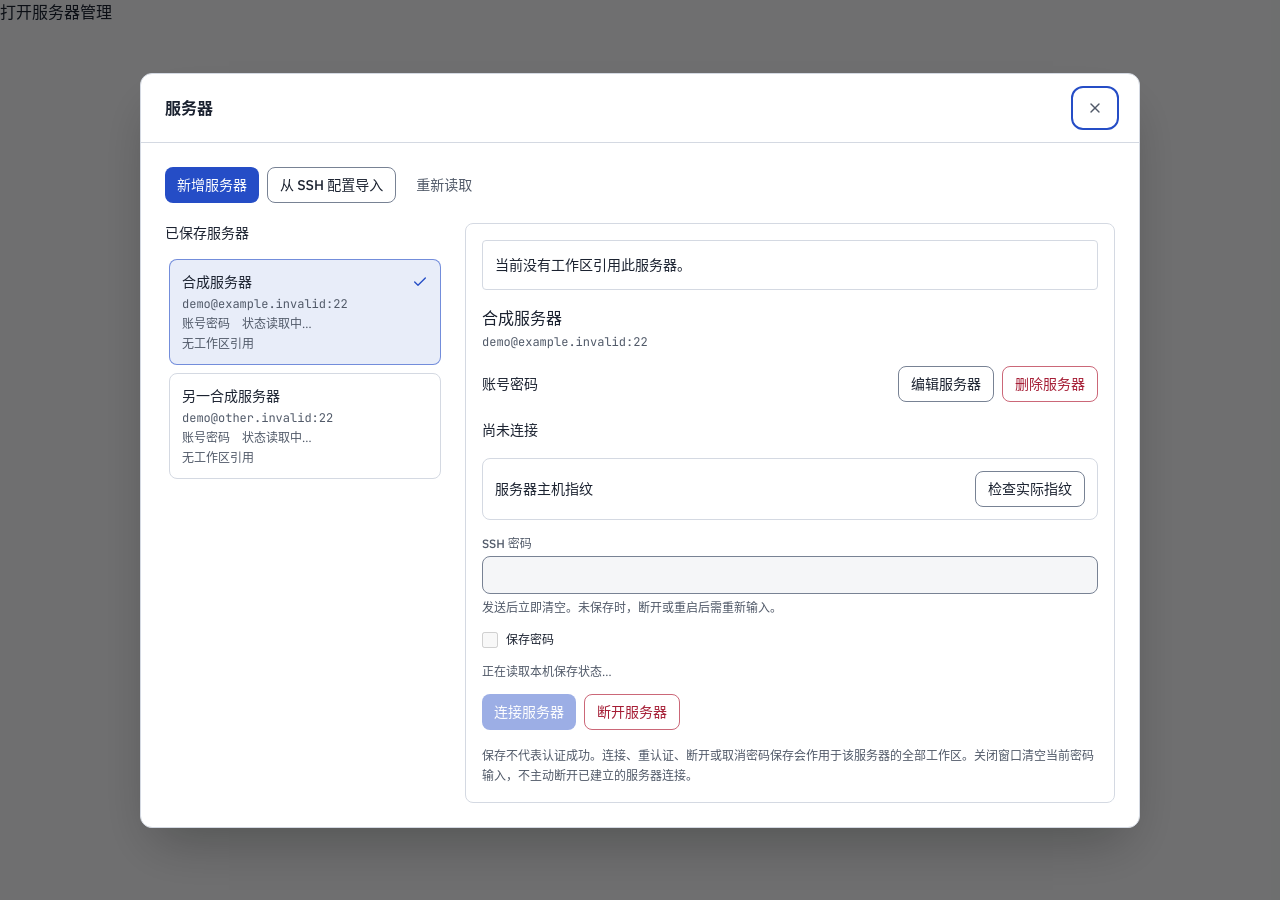
it: 密码可编辑但仅确认保存才替换，发送清理，不把保存当作认证成功
The image size is (1280, 900).
Click the button "编辑服务器".
click(946, 384)  # box [898,366,994,402]
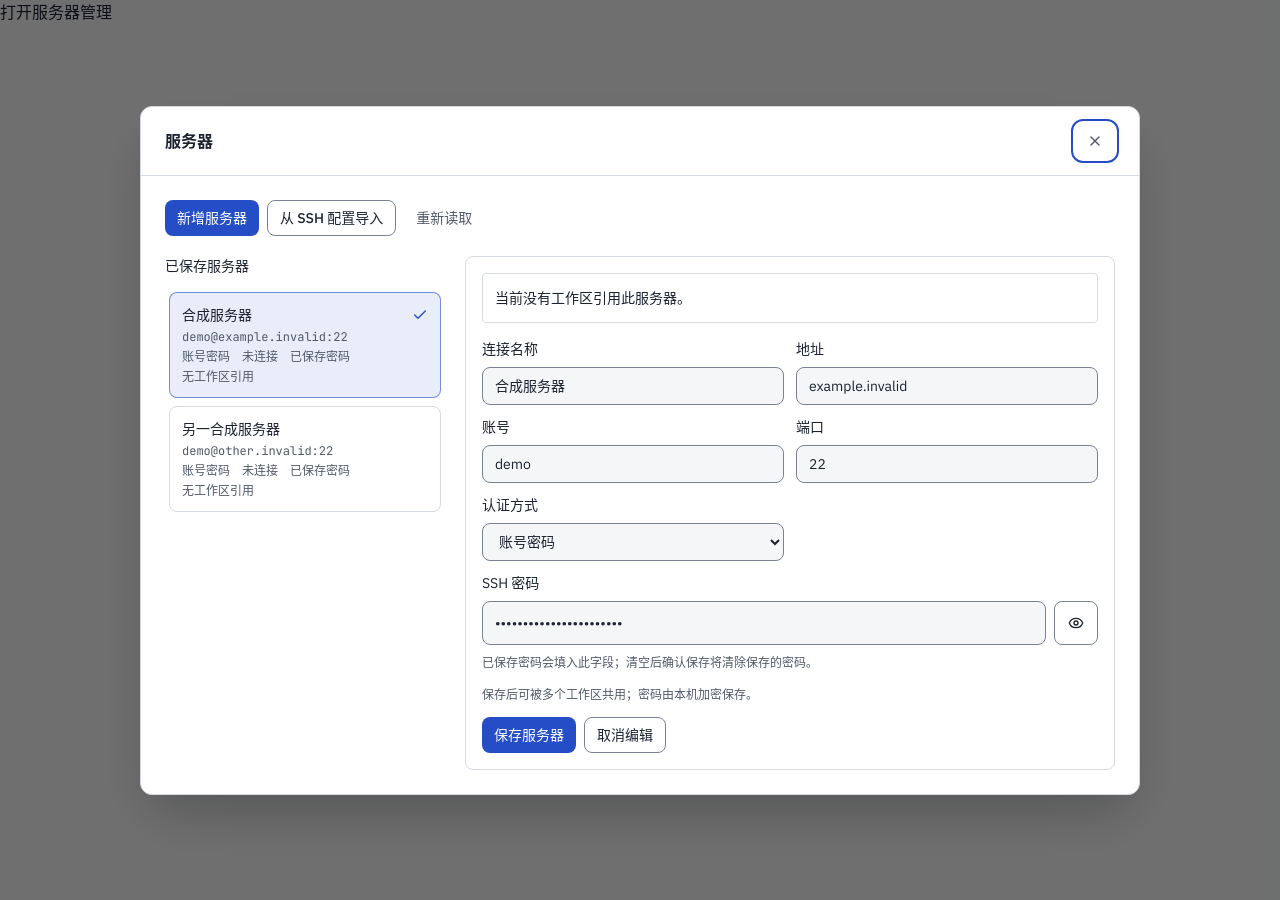
Expected: the password field labelled "SSH 密码" holds "fixture-existing-secret"
Type "fixture-replacement-secret" into the password field labelled "SSH 密码".
click(764, 622); type("fixture-replacement-secret")  # box [482,600,1046,644]
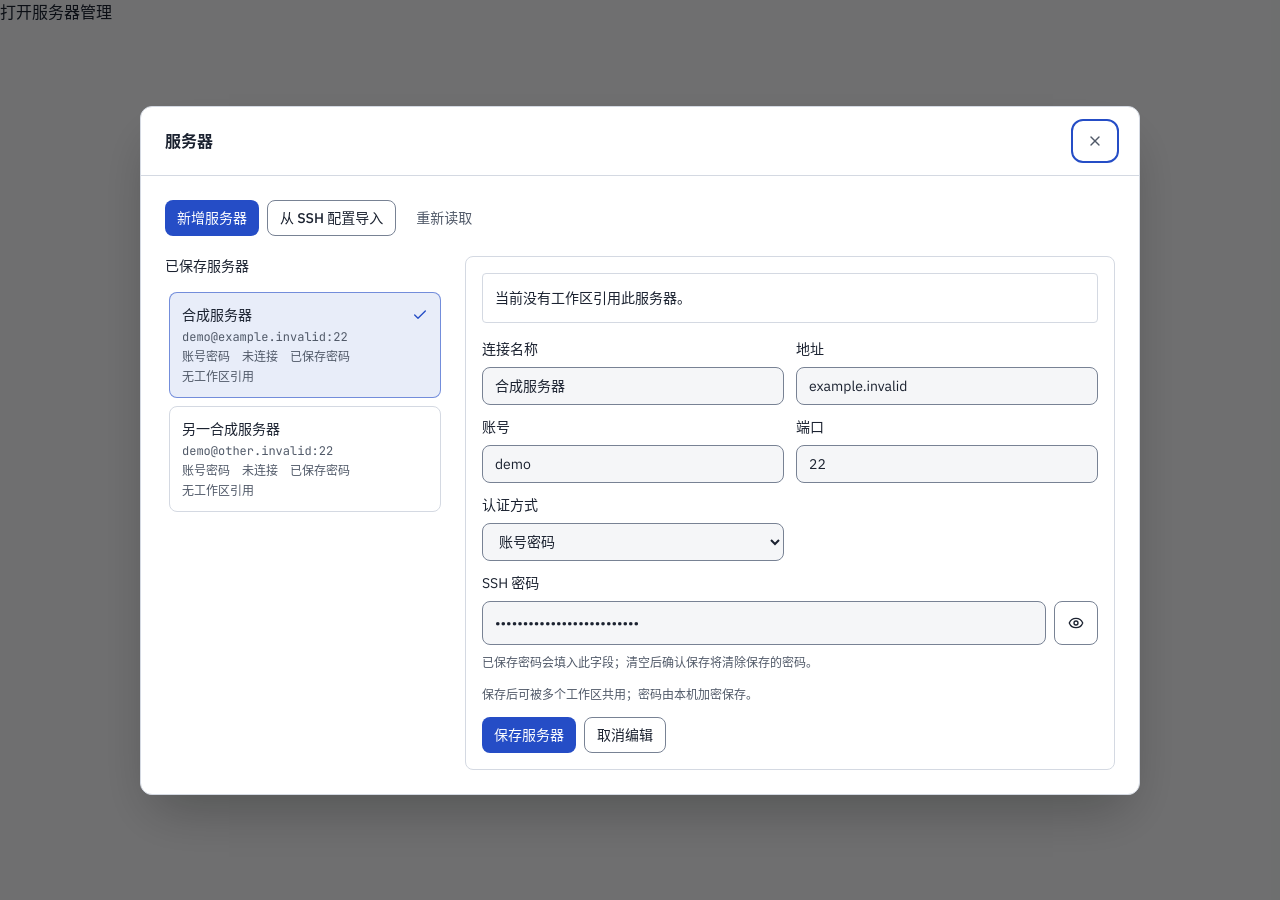
Click the button "保存服务器".
click(529, 734)  # box [482,716,576,752]
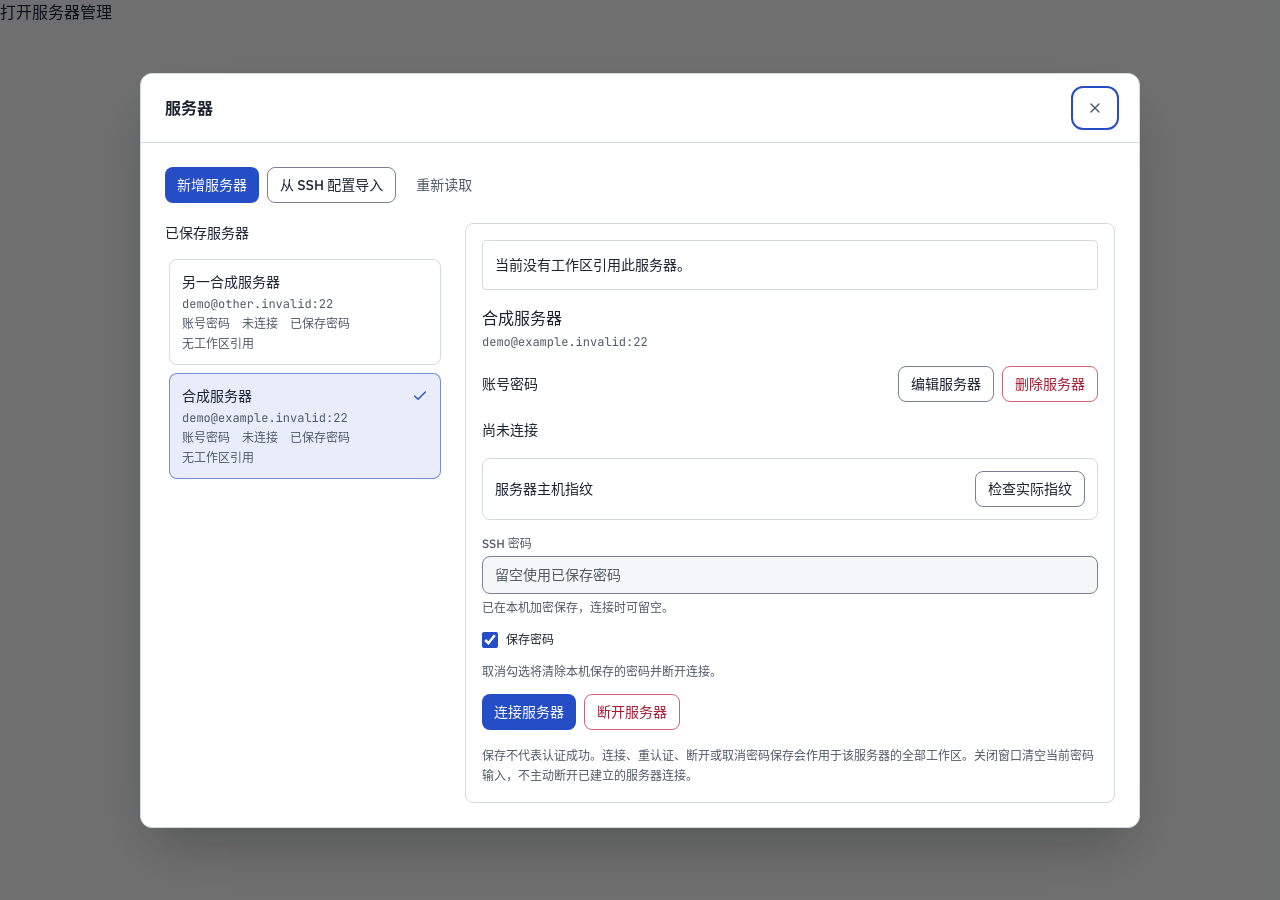
Expected: the password field labelled "SSH 密码" is empty, [482,556,1098,594]
Expected: the button "编辑服务器" is shown, [898,366,994,402]
Expected: the text "保存不代表认证成功" is shown, [482,748,1094,782]
